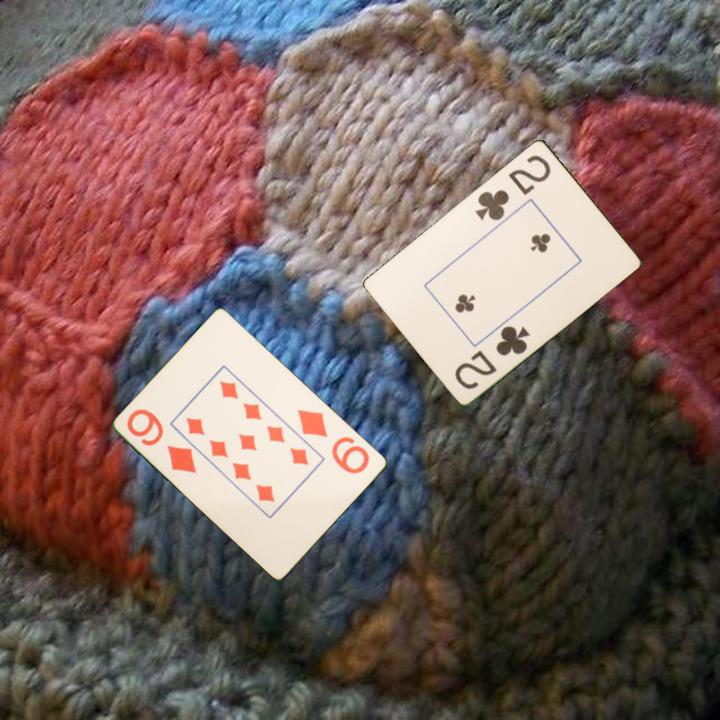2c: (471, 151, 554, 223), (451, 321, 533, 392)
9d: (294, 406, 373, 477), (123, 405, 200, 476)
